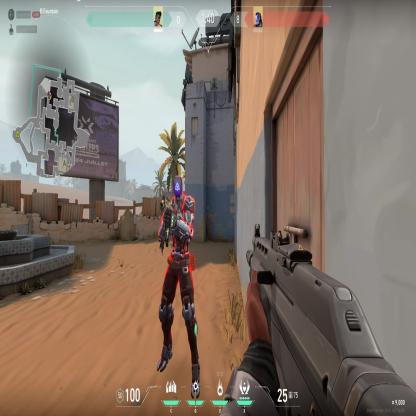enemy: (156, 173, 202, 401)
